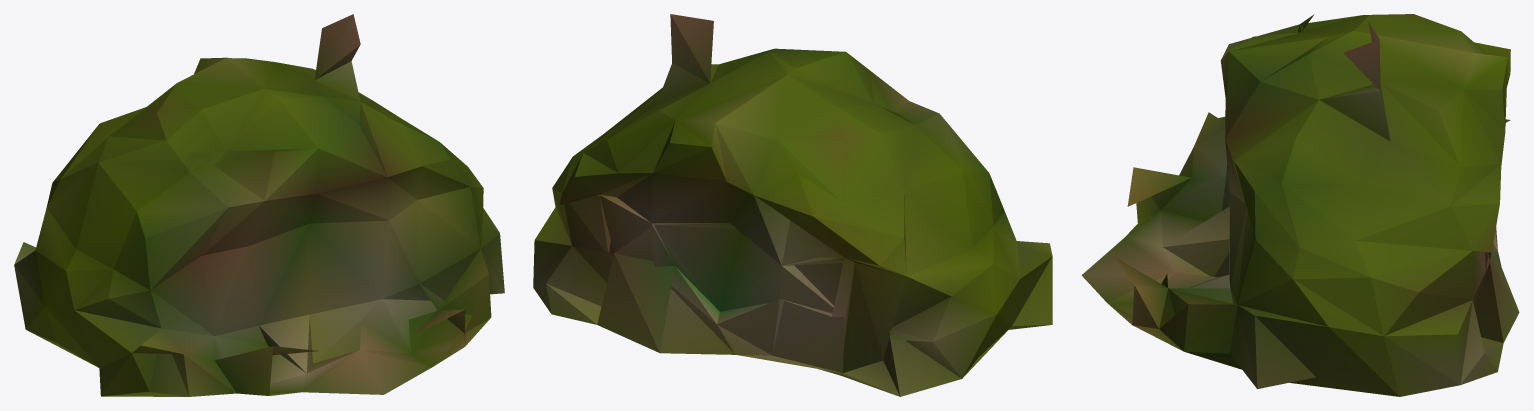
Rendered from burrow-house.glb.
3 views of the same model, side by side, from view 1: azimuth 30°, elevation 25°; view 2: azimuth 150°, elevation 25°; view 3: azimuth 270°, elevation 25° (orthographic). The views are drawn at different scales.
Parts seen in each view (by area): view 1: burrow-house-far; view 2: burrow-house-far; view 3: burrow-house-far.
Part boxes in pixels (box(x1,y1,x2,y2)): burrow-house-far: box(14, 14, 504, 396); burrow-house-far: box(533, 14, 1052, 396); burrow-house-far: box(1081, 14, 1519, 396).
Size of the model in its own units: 9.35 by 5.7 by 7.5.
